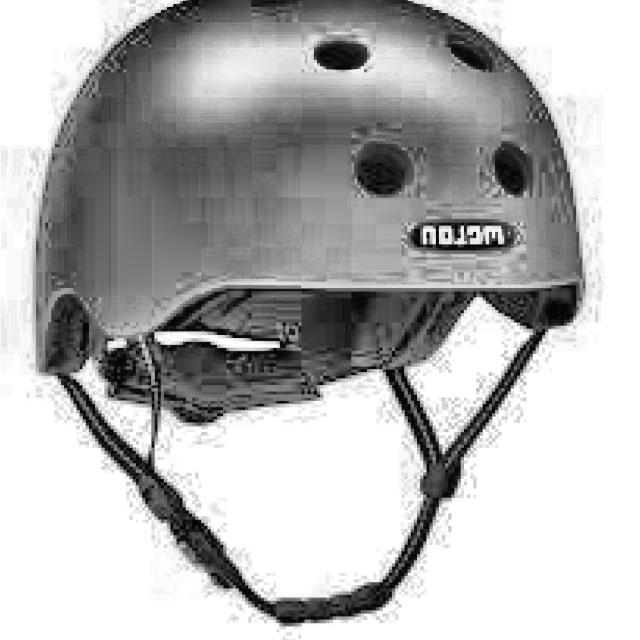Helmet: (18, 0, 598, 635)
